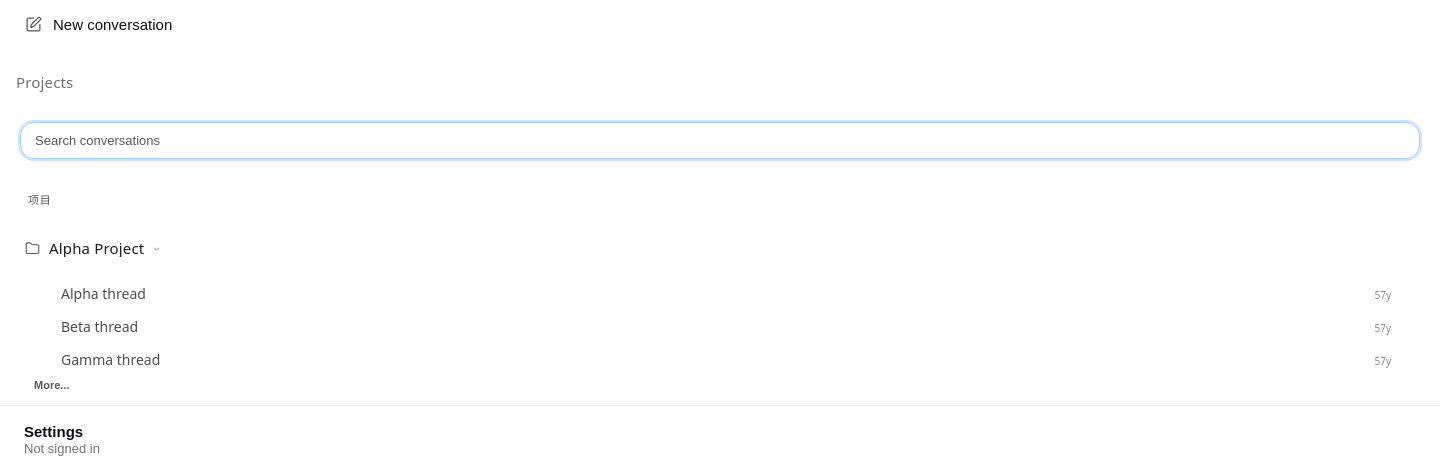
Scenario: Sidebar › searches across loaded root threads before collapsed truncation
Type "delta" into the field with placeholder "Search conversations". click: {"x": 720, "y": 140}
box: [20,122,1420,159]
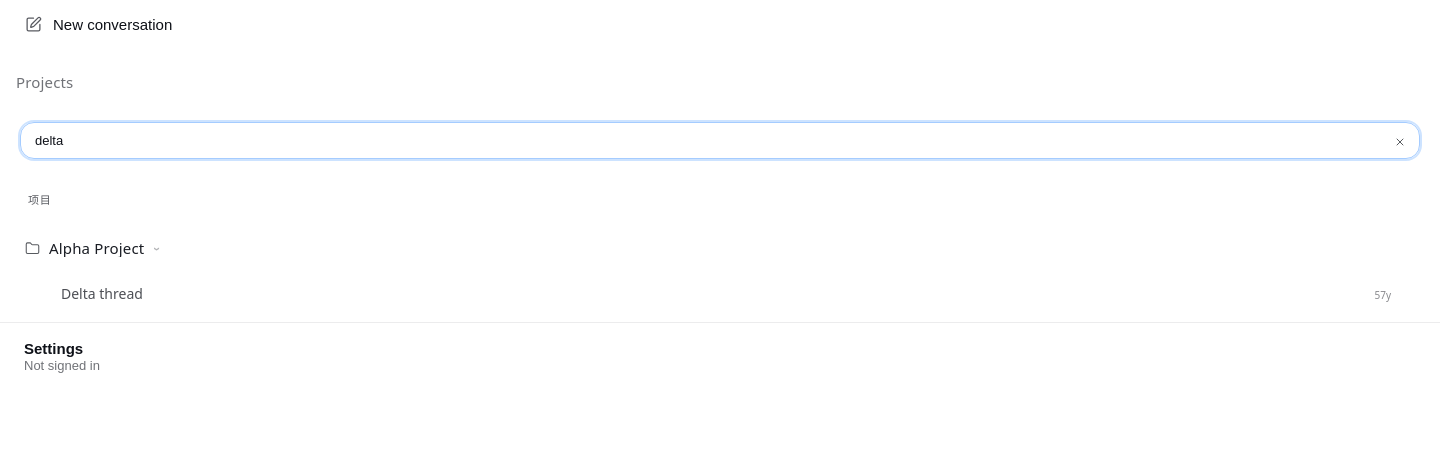
Now the text "Delta thread" is shown, box [61,284,143,303]
Now the button "Alpha thread" is gone
Now the button "More..." is gone
